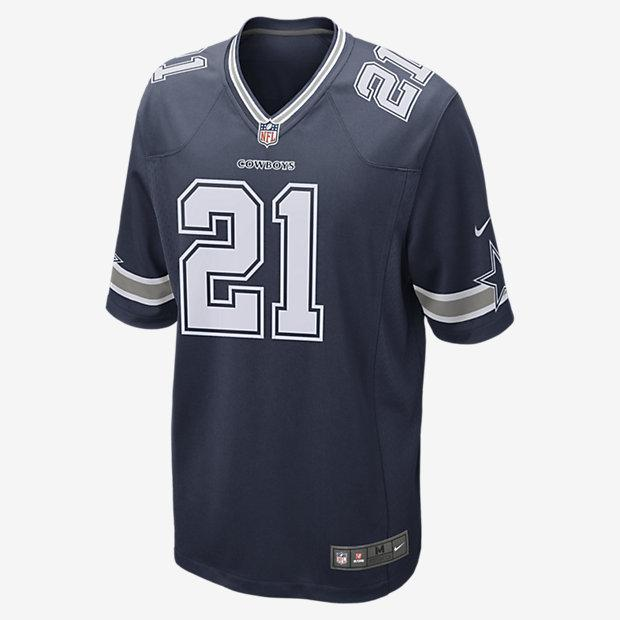teeshirt: (89, 13, 530, 611)
